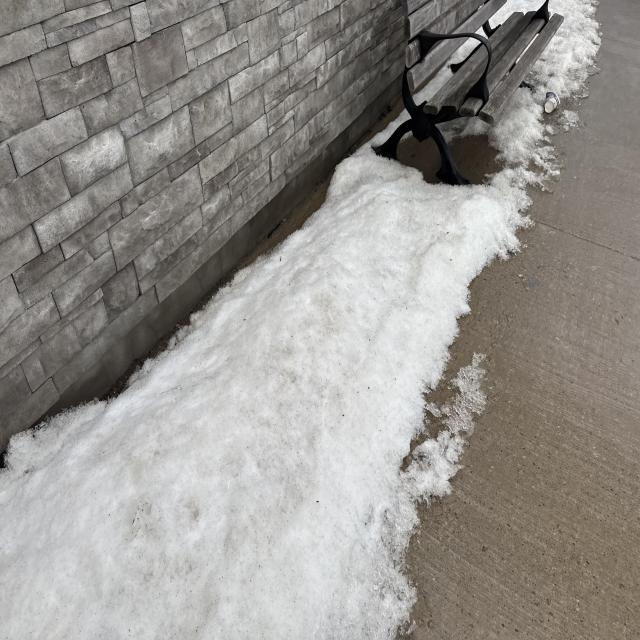Bench: (378, 1, 569, 176)
